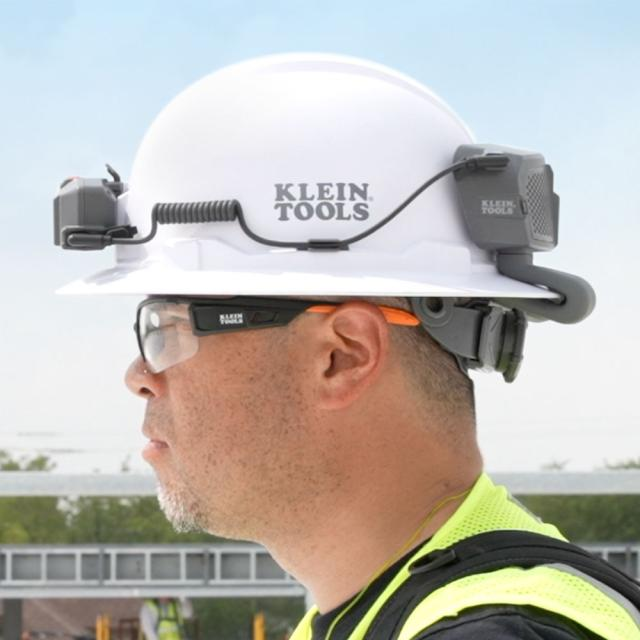goggles: (126, 298, 426, 382)
helmet: (49, 25, 593, 312)
vest: (277, 467, 640, 640)
